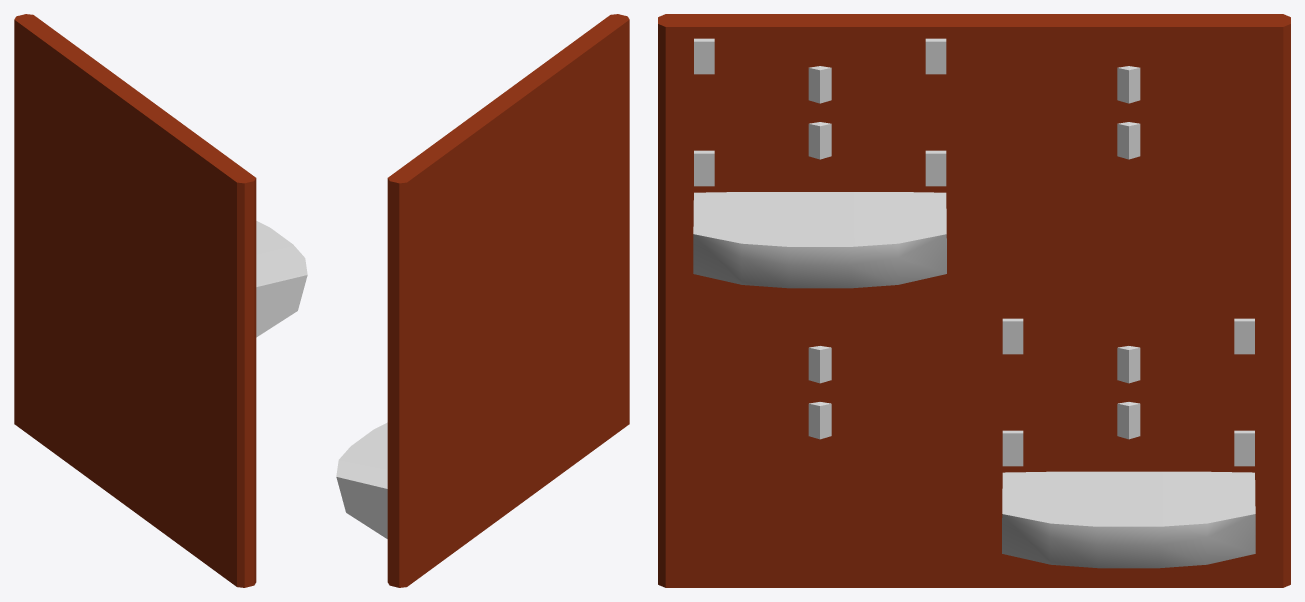
The model's file is Wall_2_1-Ladder_B.fbx.
3 renders of one model, left to right at view 1: azimuth 30°, elevation 25°; view 2: azimuth 150°, elevation 25°; view 3: azimuth 270°, elevation 25°, orthographic. The views are drawn at different scales.
Parts seen in each view (by area): view 1: Wall/2_1-Ladder_B, Ladder.001; view 2: Wall/2_1-Ladder_B, Ladder.001; view 3: Wall/2_1-Ladder_B, Ladder.001.
Part boxes in pixels (box(x1,y1,x2,y2)): Wall/2_1-Ladder_B: box(14, 14, 256, 587); Ladder.001: box(256, 221, 307, 337); Wall/2_1-Ladder_B: box(387, 14, 629, 587); Ladder.001: box(336, 422, 387, 538); Wall/2_1-Ladder_B: box(658, 14, 1290, 587); Ladder.001: box(693, 38, 1255, 568).
Bounding box in the file's own units: 1.05 × 4.1 × 4.01.
